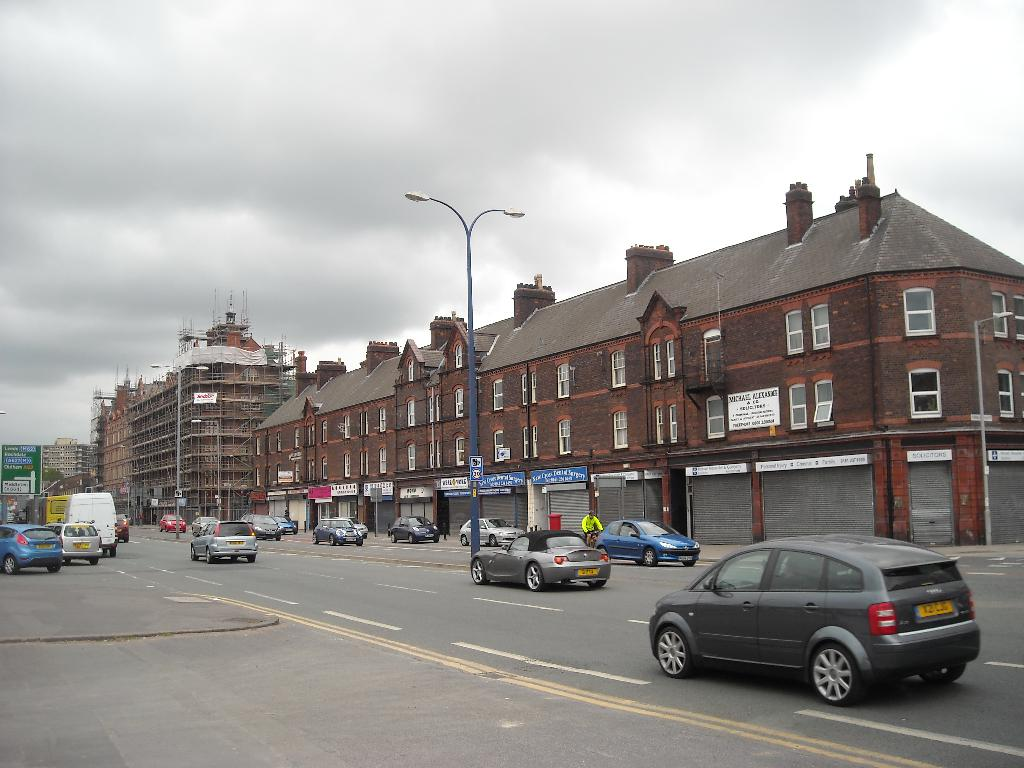Car: (647, 533, 981, 705), (469, 529, 610, 592), (595, 519, 700, 565), (0, 523, 63, 575), (43, 511, 103, 564), (191, 520, 259, 564), (460, 517, 524, 545), (389, 514, 440, 544), (310, 518, 363, 545), (243, 514, 280, 540), (331, 515, 368, 538), (188, 515, 216, 535), (160, 514, 186, 533), (273, 515, 296, 535), (117, 517, 129, 543)
